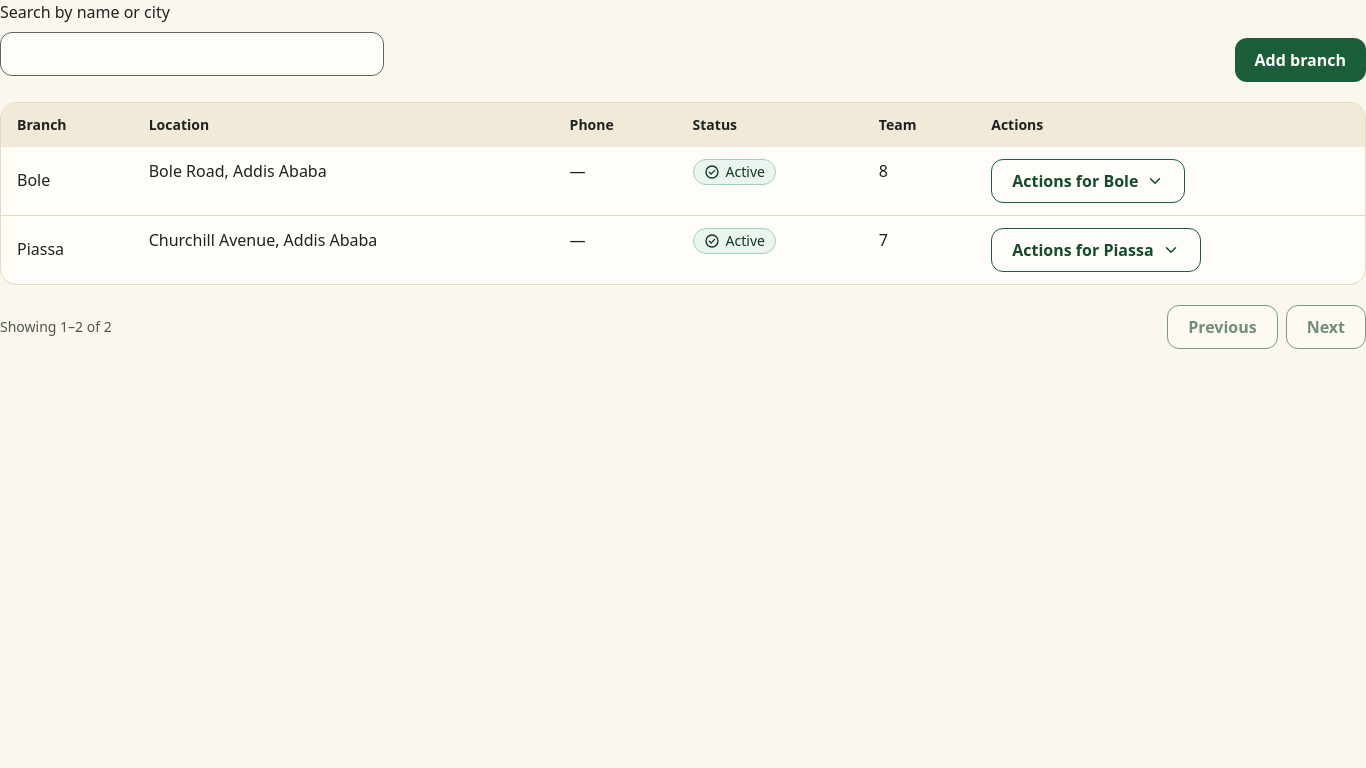
as an owner › adds a branch, normalising the phone number, and shows it
The image size is (1366, 768).
Click the button "Add branch".
click(1300, 60)  # box [1234,38,1365,82]
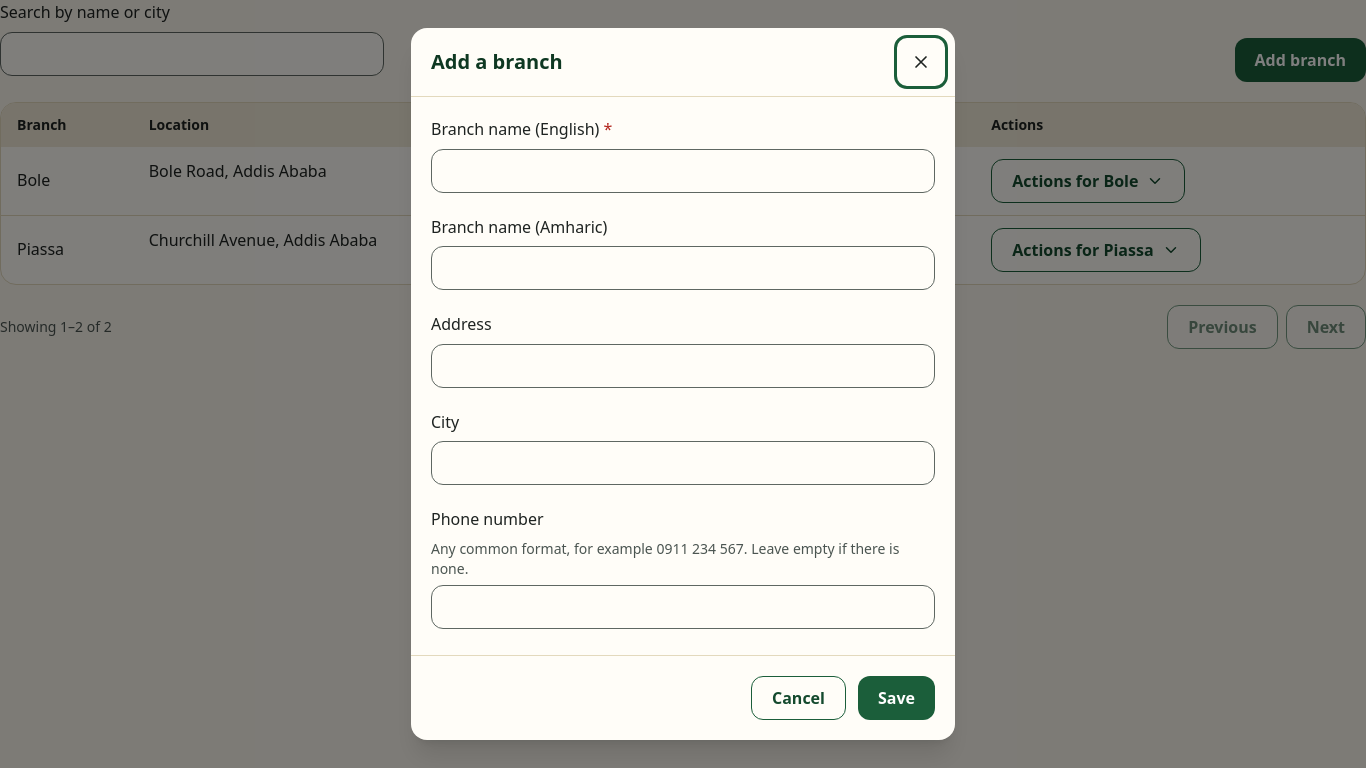
Click the button "Save".
click(896, 698)  # box [858,676,935,720]
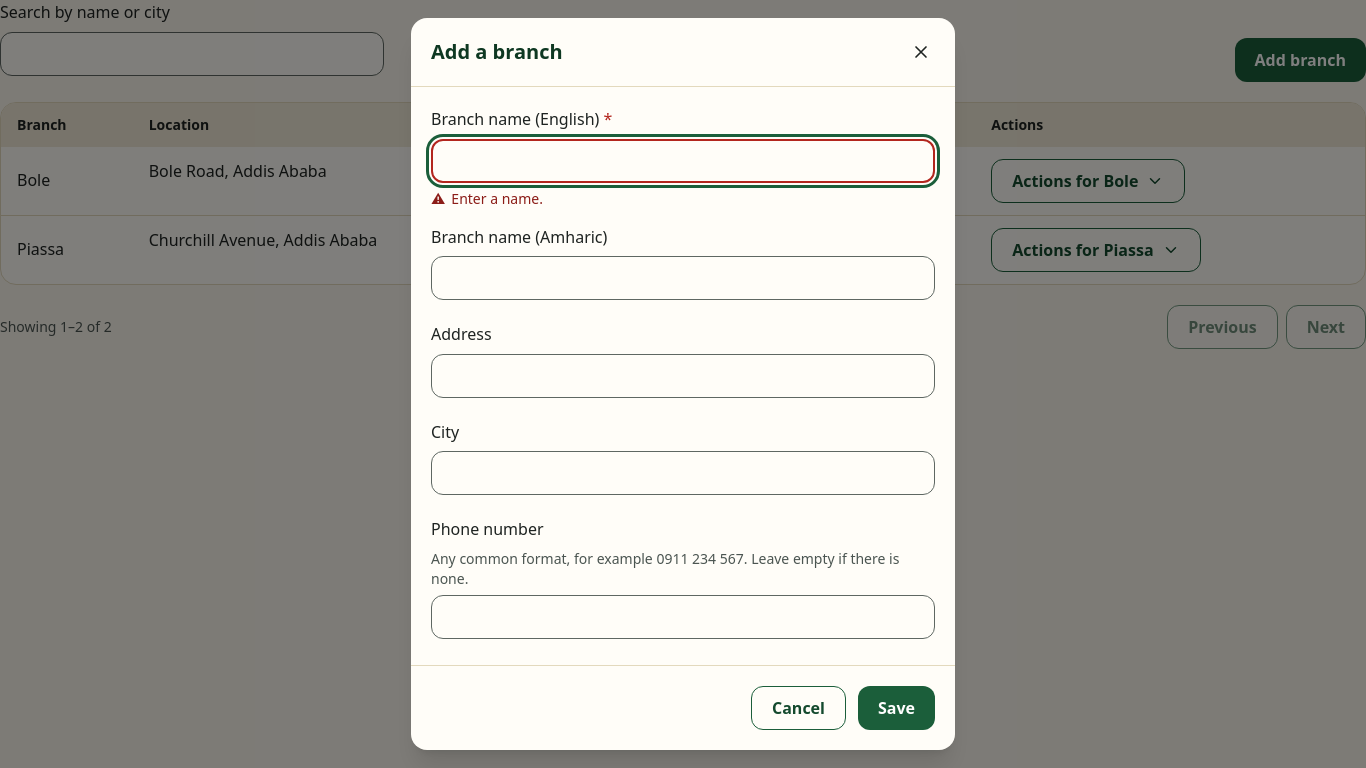
Result: the text "Enter a name." is shown at [451,189,543,209]
Type "Megenagna" into the field labelled "Branch name (English) *".
click(683, 161); type("Megenagna")  # box [431,139,935,183]
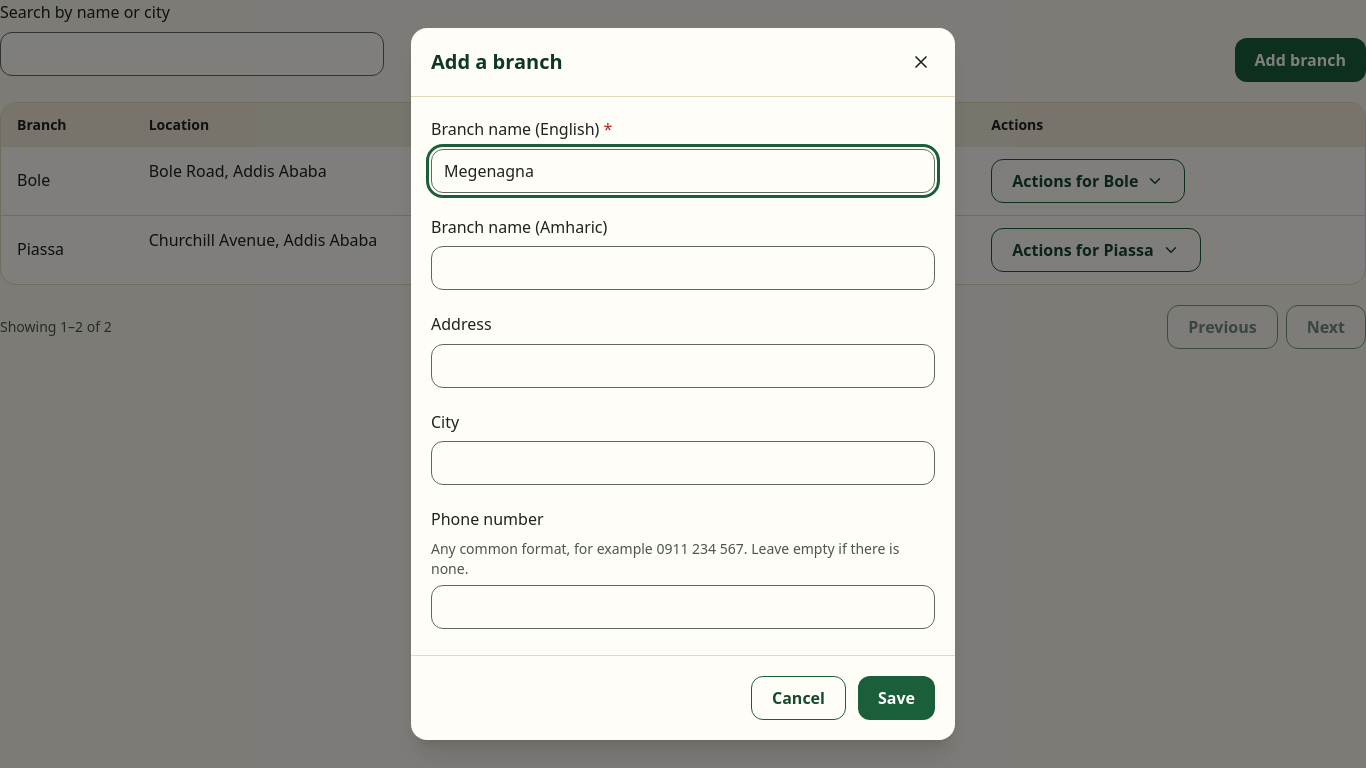
Type "Addis Ababa" into the field labelled "City".
click(683, 463); type("Addis Ababa")  # box [431,441,935,485]
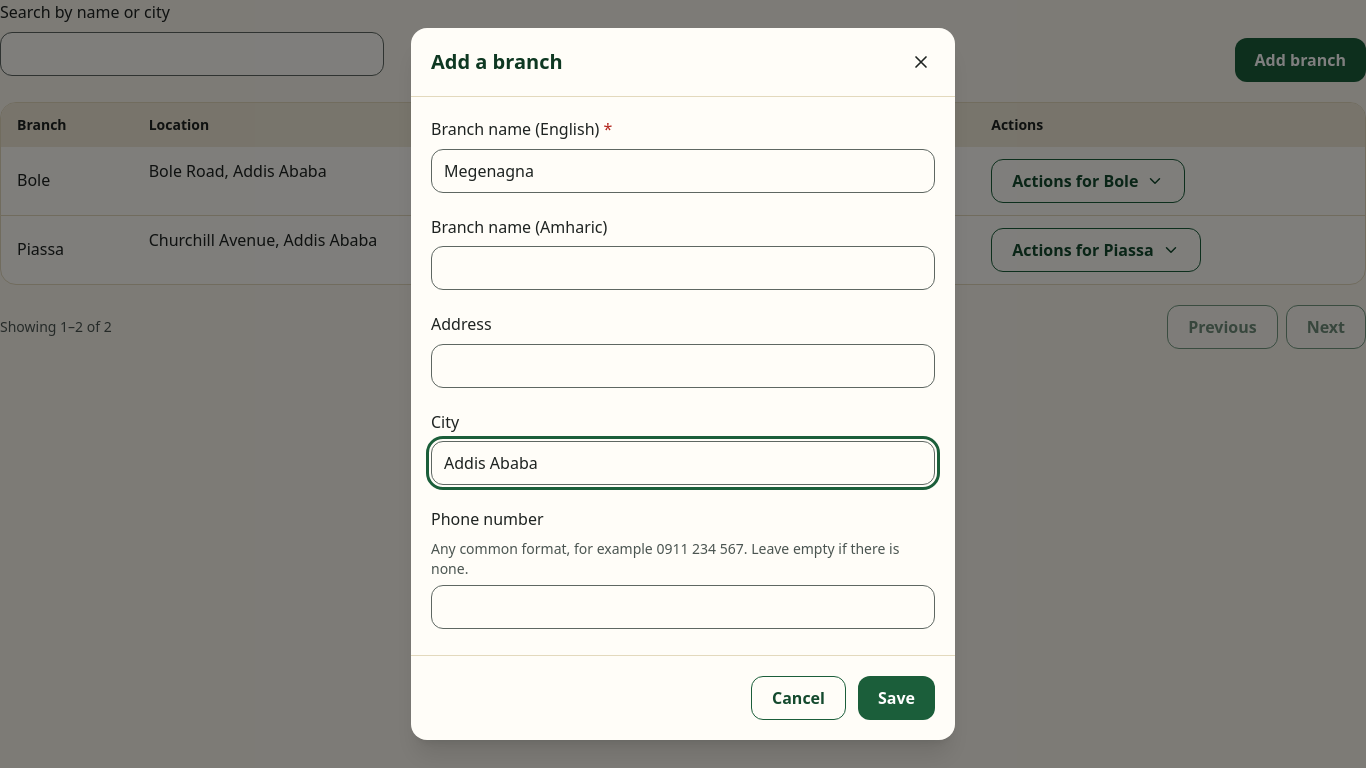
Type "0911 234 567" into the field labelled "Phone number".
click(683, 607); type("0911 234 567")  # box [431,585,935,629]
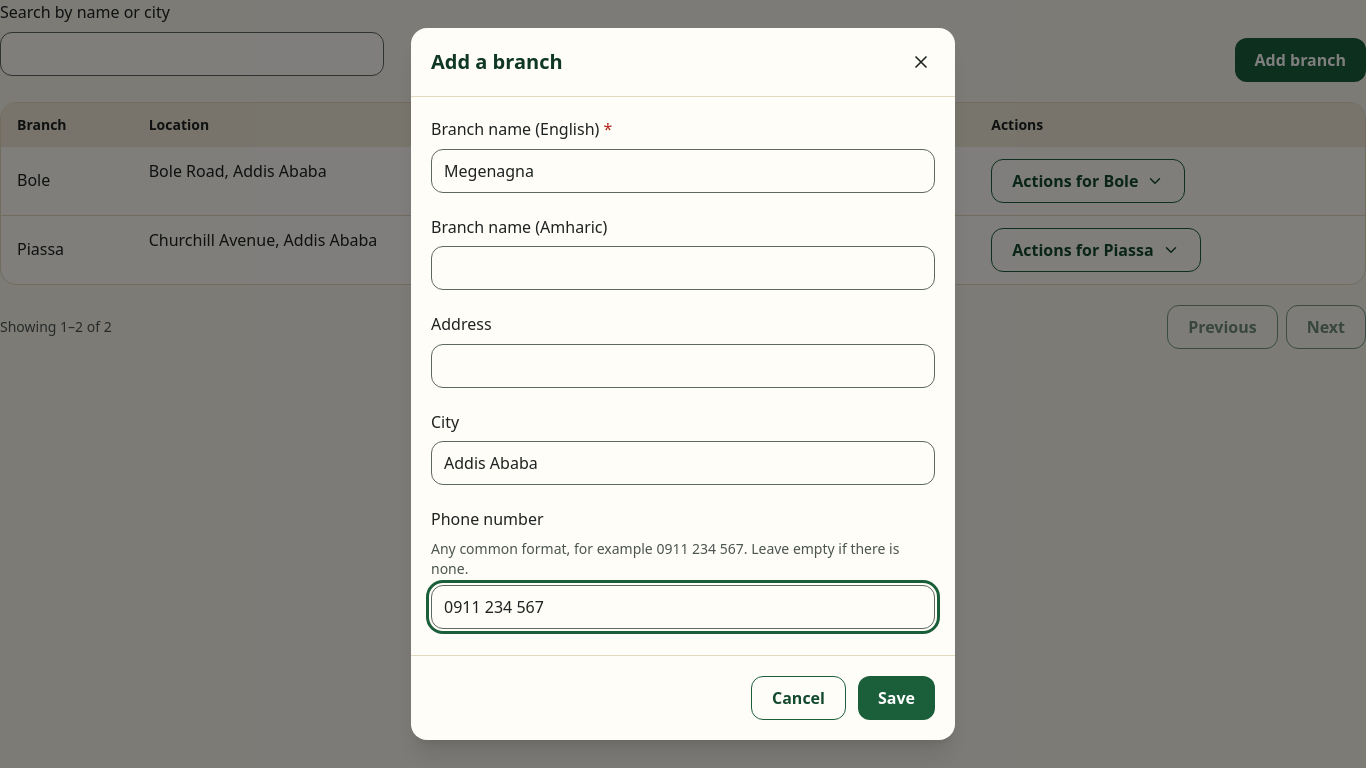
Click the button "Save".
click(896, 698)  # box [858,676,935,720]
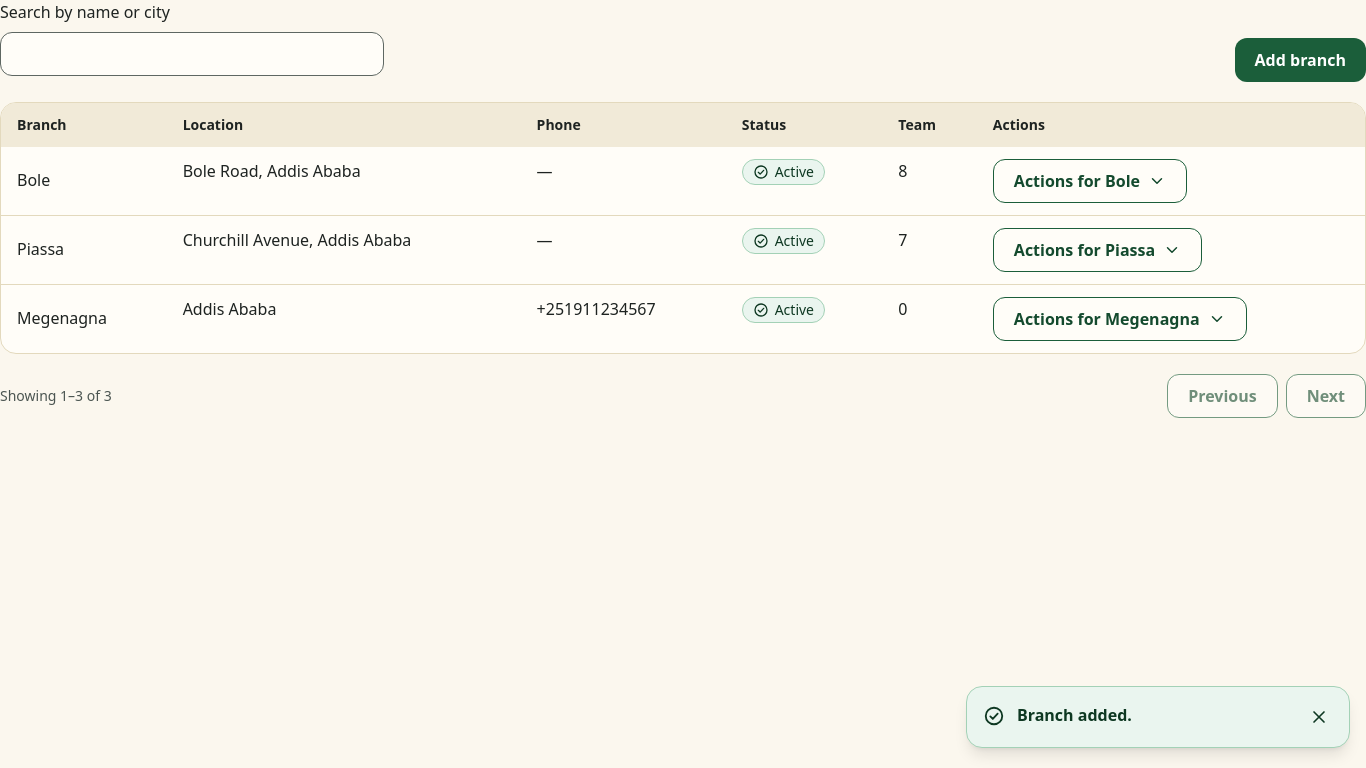
Result: the row "Megenagna" shows "+251911234567" at [537,298,656,320]
Result: the text "Branch added." is shown at [1017,704,1132,726]
